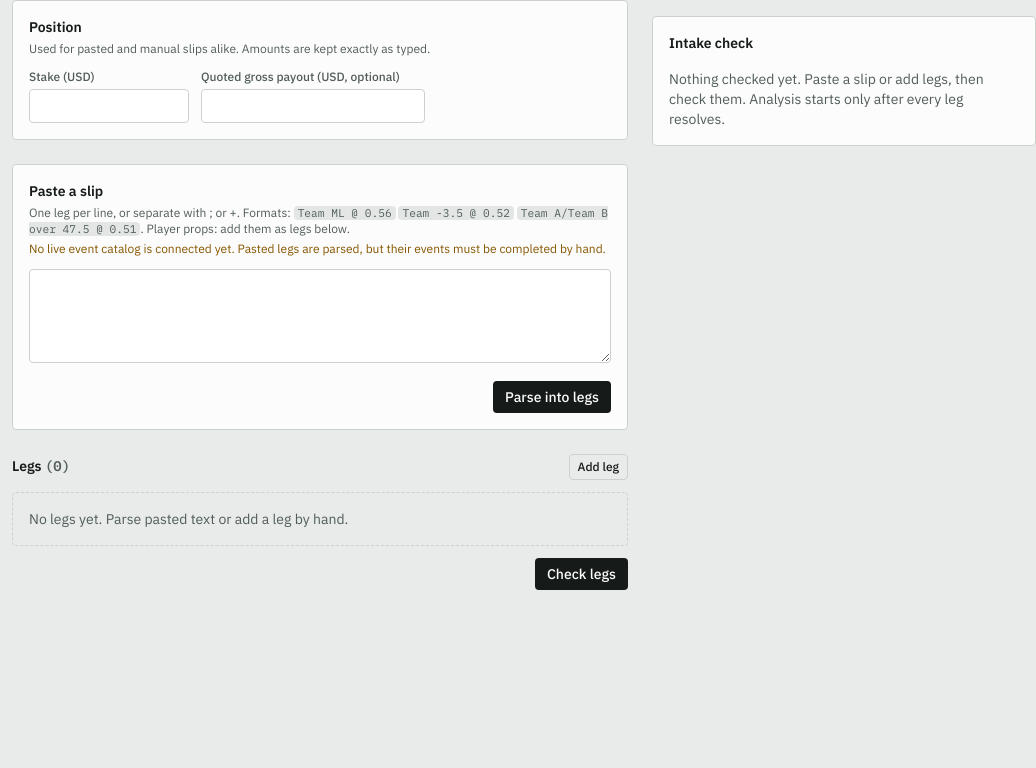
Test: a server error without a result is reported as unavailable
The image size is (1036, 768).
Type "Chiefs ML @ 0.56" into the text box named "Slip text" at (320, 316), box x1=29 y1=269 x2=611 y2=363
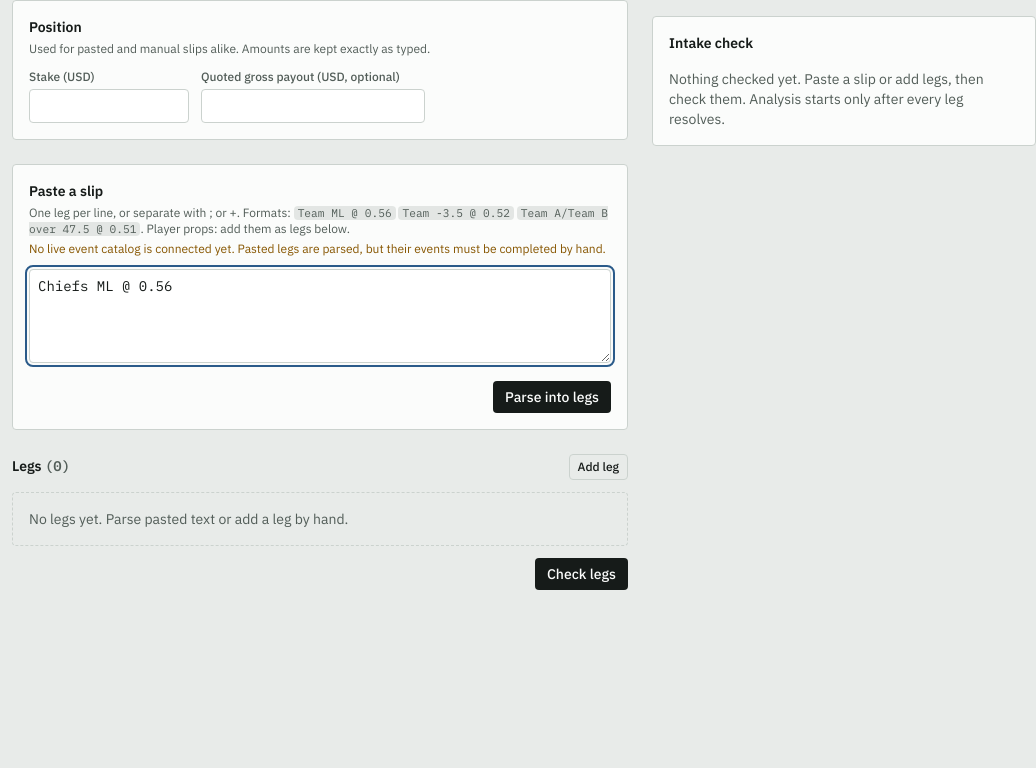
Type "25" into the field labelled "Stake (USD)" at (109, 106), box x1=29 y1=89 x2=189 y2=123
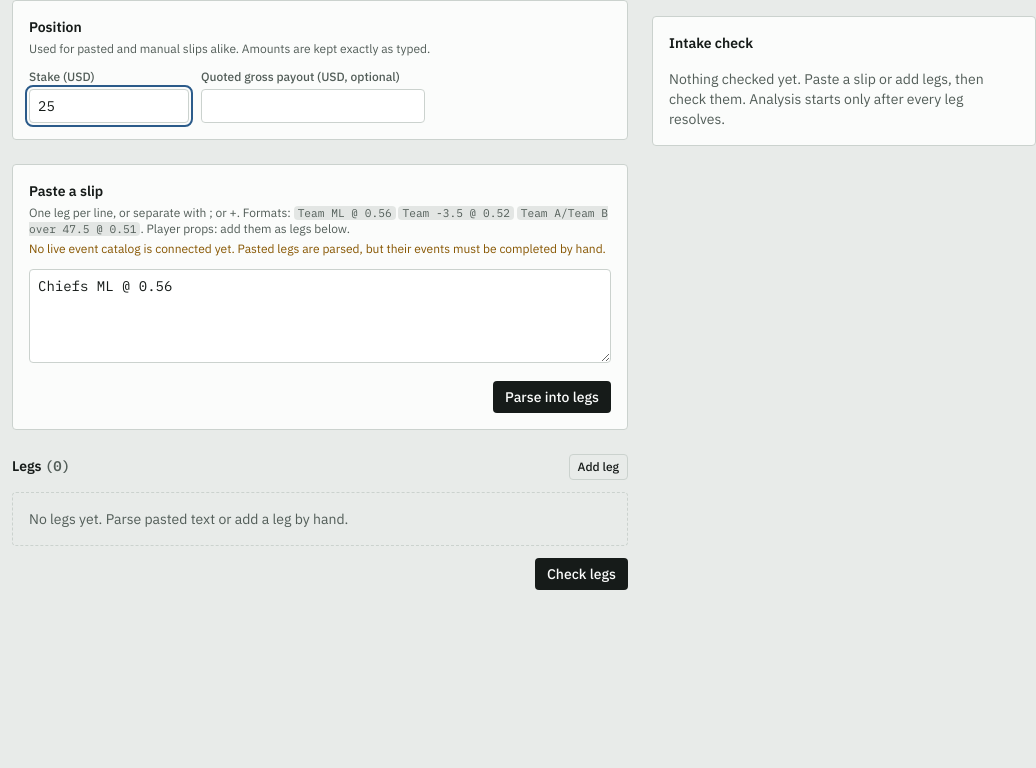
Click the button "Parse into legs" at (552, 397), box x1=493 y1=381 x2=611 y2=413
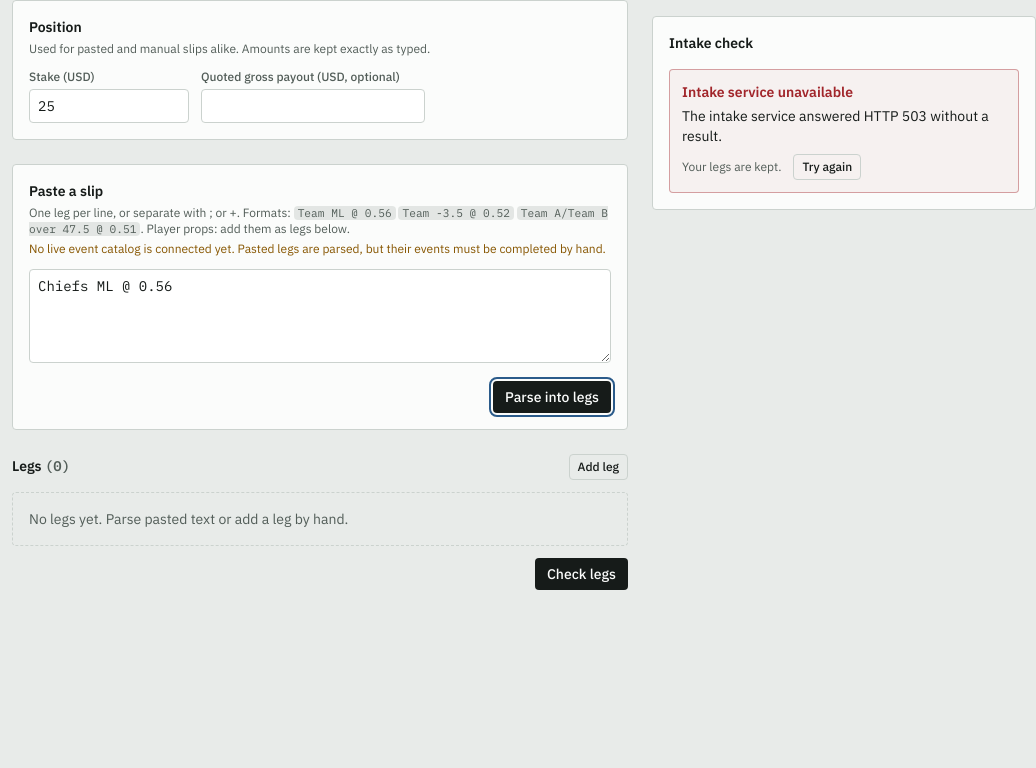
Result: the message shows "HTTP 503 without a result" at x1=682 y1=107 x2=989 y2=145
